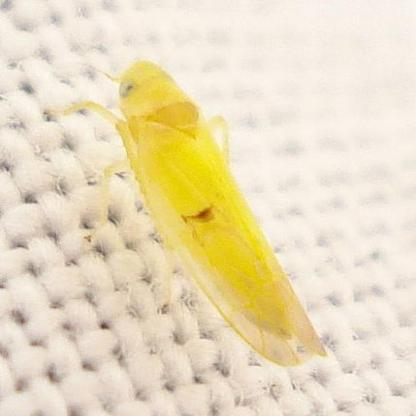green-leafhopper: (112, 61, 321, 362)
